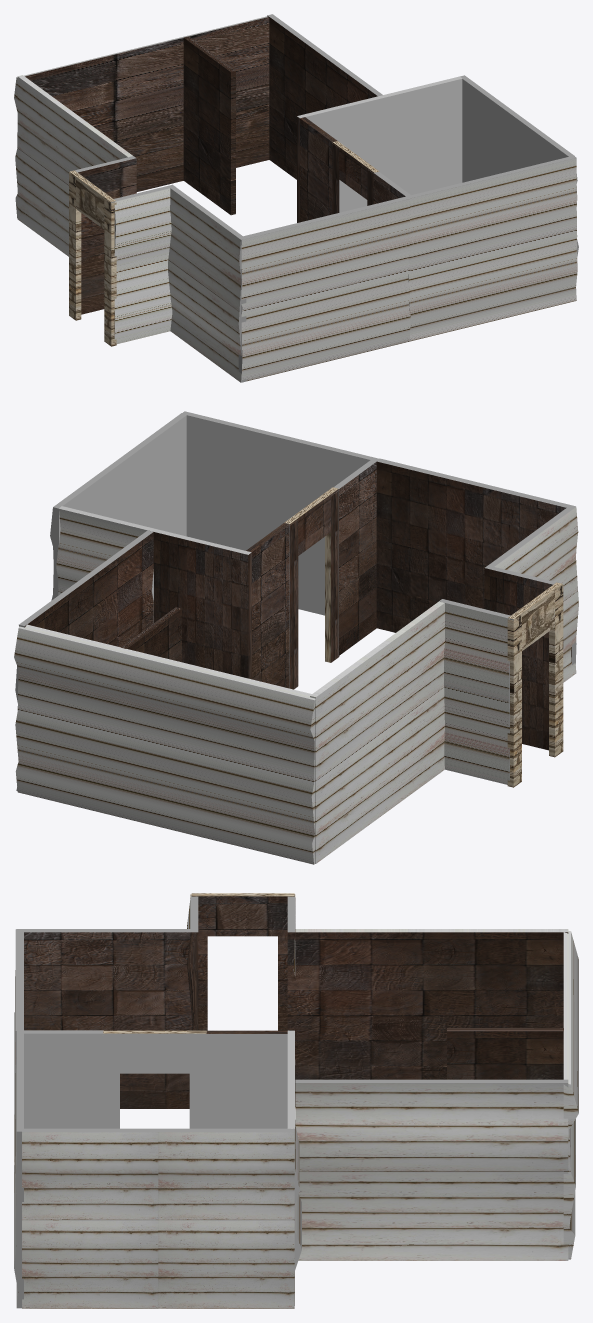
Rendered from BuildingFrame.fbx.
The picture shows the model from 3 angles, top to bottom: view 1: azimuth 30°, elevation 25°; view 2: azimuth 150°, elevation 25°; view 3: azimuth 270°, elevation 25°; orthographic projection. The views are drawn at different scales.
Visible parts, largest first — view 1: wall23, wall4, wall10, wall7, wall1, wall12, wall6, wall16, wall11, wall13, wall15, wall3 (+7 smaller); view 2: wall10, wall1, wall23, wall4, wall15, wall3, wall13, wall11, wall22, wall21, wall7, wall6 (+8 smaller); view 3: wall13, wall11, wall1, wall7, wall21, wall22, wall16, doorway2, wall10, doorway4, wall4, wall6 (+7 smaller).
Boxes of the visible parts, x1,y1,x2,y2 form: wall23: (238, 196, 410, 381); wall4: (407, 156, 577, 341); wall10: (14, 16, 269, 218); wall7: (168, 185, 246, 382); wall1: (17, 75, 132, 256); wall12: (379, 76, 462, 195); wall6: (114, 184, 175, 343); wall16: (183, 36, 235, 215); wall11: (267, 14, 382, 179); wall13: (460, 75, 578, 256); wall15: (297, 96, 381, 222); wall3: (75, 156, 136, 314); wall10: (14, 624, 315, 864); wall1: (310, 601, 444, 863); wall23: (376, 458, 576, 664); wall4: (182, 411, 378, 615); wall15: (153, 529, 251, 679); wall3: (439, 599, 510, 784); wall13: (50, 413, 187, 600); wall11: (15, 530, 153, 790); wall22: (334, 459, 377, 655); wall21: (246, 523, 289, 688); wall7: (486, 506, 578, 682); wall6: (484, 565, 558, 750); wall13: (22, 1128, 294, 1308); wall11: (295, 1079, 568, 1260); wall1: (295, 929, 568, 1079); wall7: (16, 929, 195, 1108); wall21: (206, 1030, 287, 1128); wall22: (20, 1030, 103, 1128); wall16: (447, 1028, 563, 1079); doorway2: (103, 1030, 206, 1073); wall10: (563, 930, 578, 1259); doorway4: (191, 893, 294, 936); wall4: (14, 1030, 23, 1308); wall6: (187, 895, 198, 1091).
Size of the model in its own units: 42.26 by 14.61 by 41.87.
